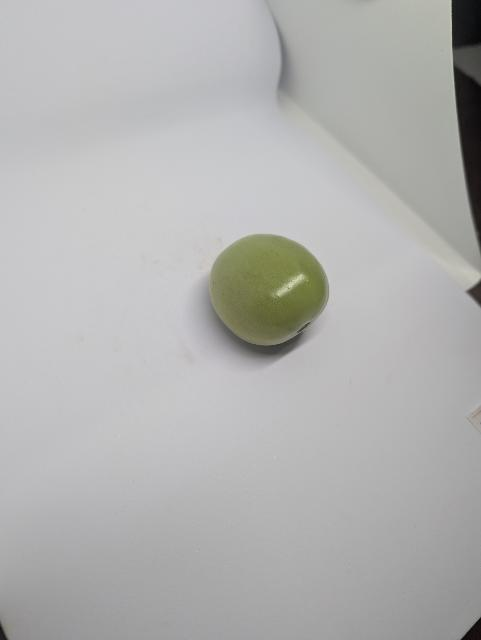green: (206, 230, 332, 349)
